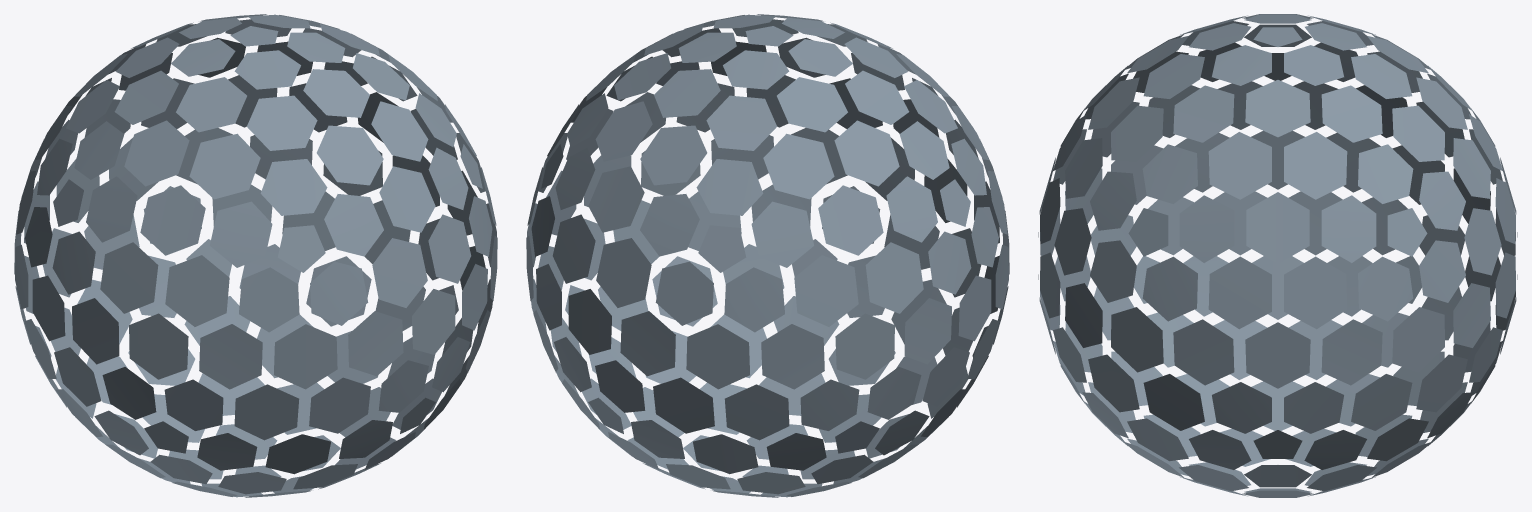
The model's file is gyrace-build-shield.glb.
3 renders of one model, left to right at view 1: azimuth 30°, elevation 25°; view 2: azimuth 150°, elevation 25°; view 3: azimuth 270°, elevation 25°, orthographic.
Visible parts, largest first — view 1: shield; view 2: shield; view 3: shield.
Part boxes in pixels (x1=…): shield: x1=14, y1=14, x2=497, y2=497; shield: x1=526, y1=14, x2=1009, y2=497; shield: x1=1038, y1=14, x2=1517, y2=497.
Size of the model in its own units: 3.97 by 4 by 3.96.
